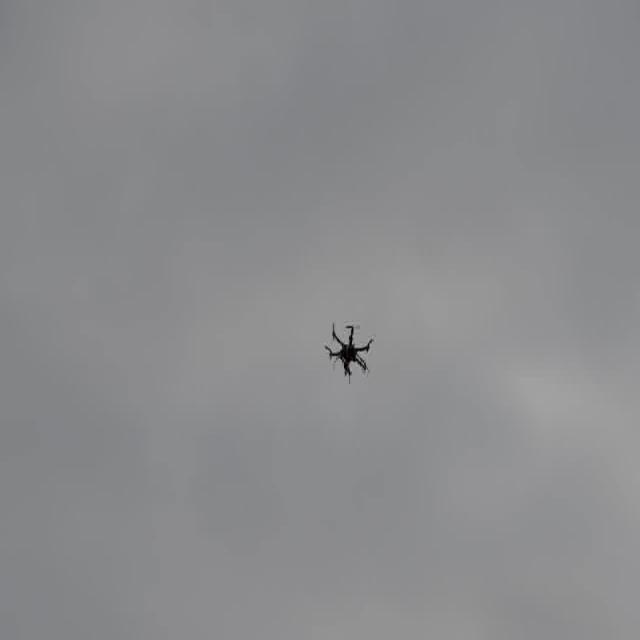drone: (324, 322, 374, 385)
